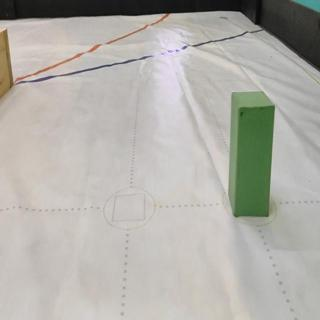greenbox: (229, 89, 276, 219)
